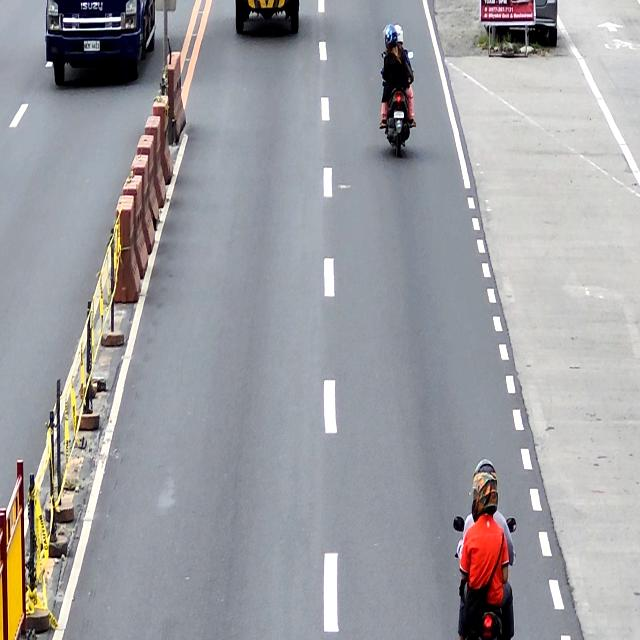License-Plate: (393, 110, 405, 119)
Motorcycle: (380, 48, 414, 156)
